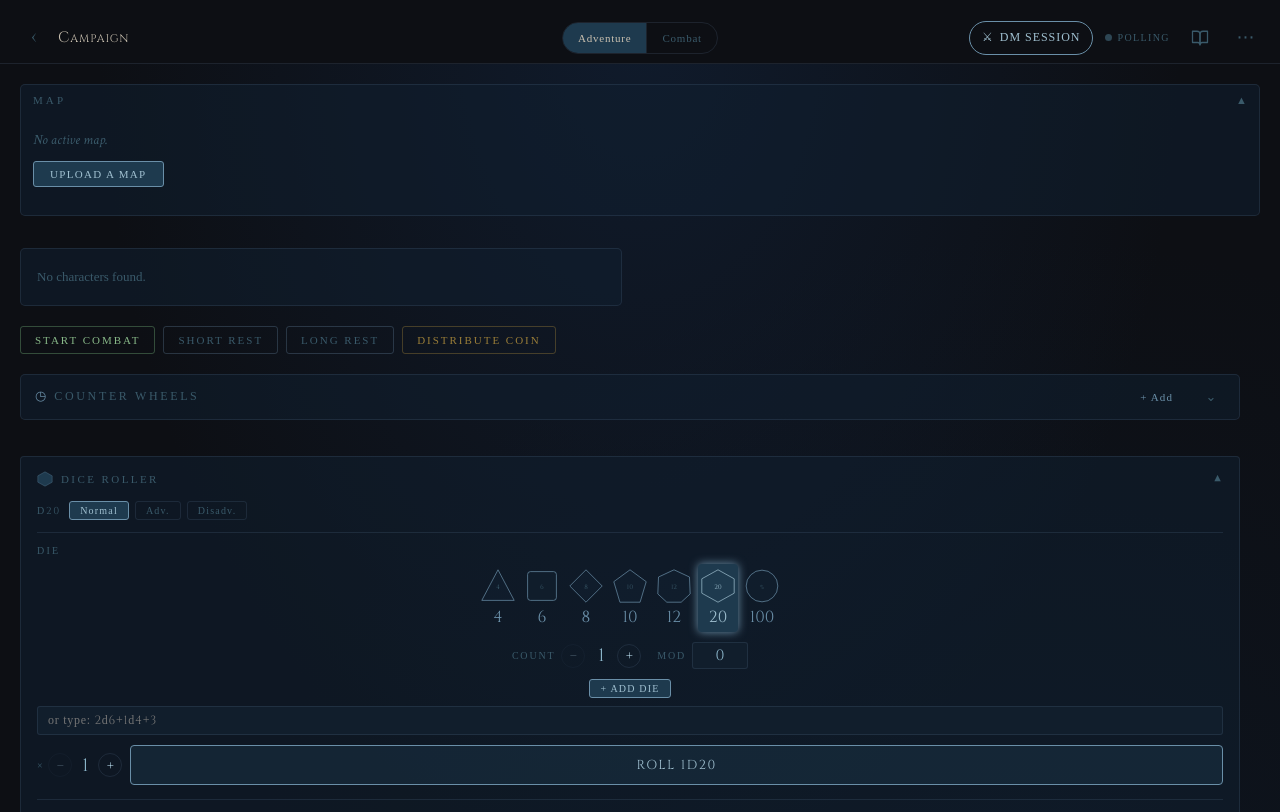
Test: DmDashboardPage text scaling › adjusts and persists dashboard text scale from the action menu
Click the button named "More actions" at [1246, 38], box 1224,16 -> 1268,60
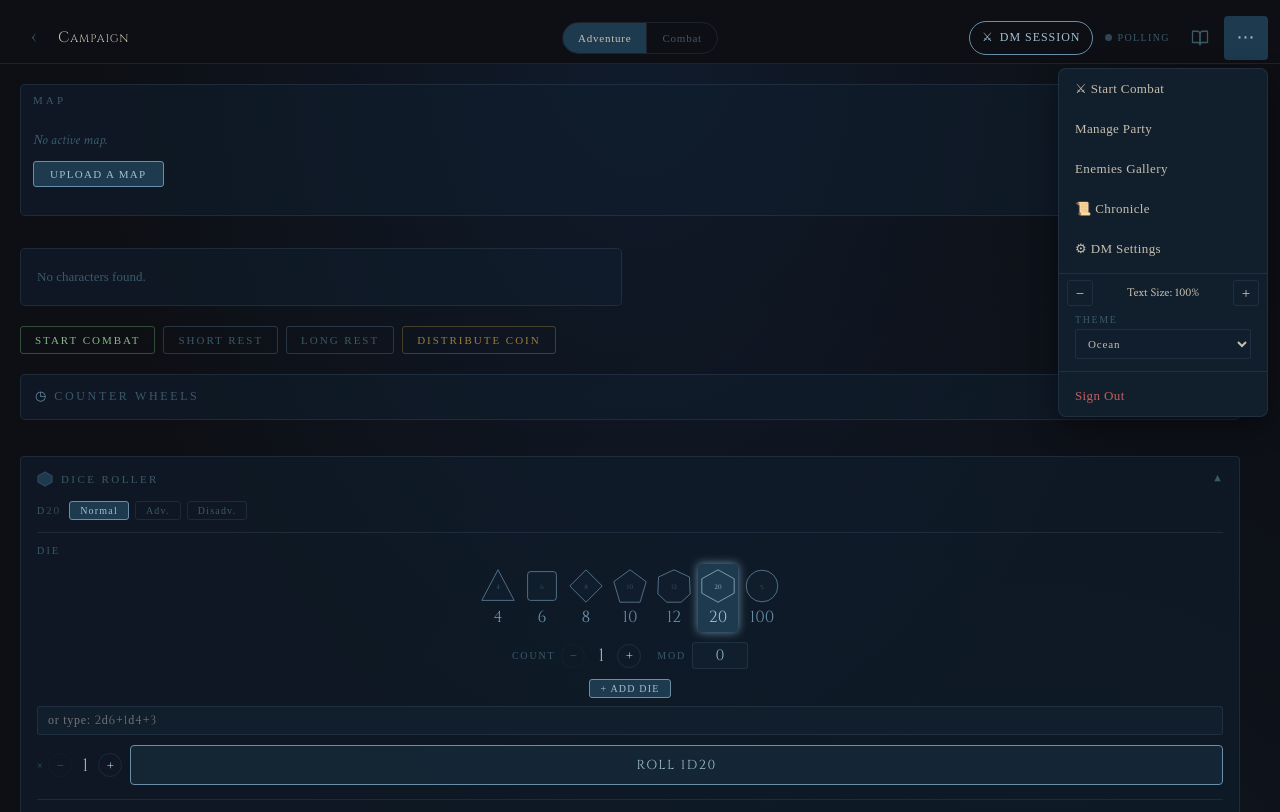
Expected: the text "Text Size: 100%" is shown, 1127,285 -> 1199,300
Click the button named "Increase Text Size" at [1246, 292], box 1233,280 -> 1259,306
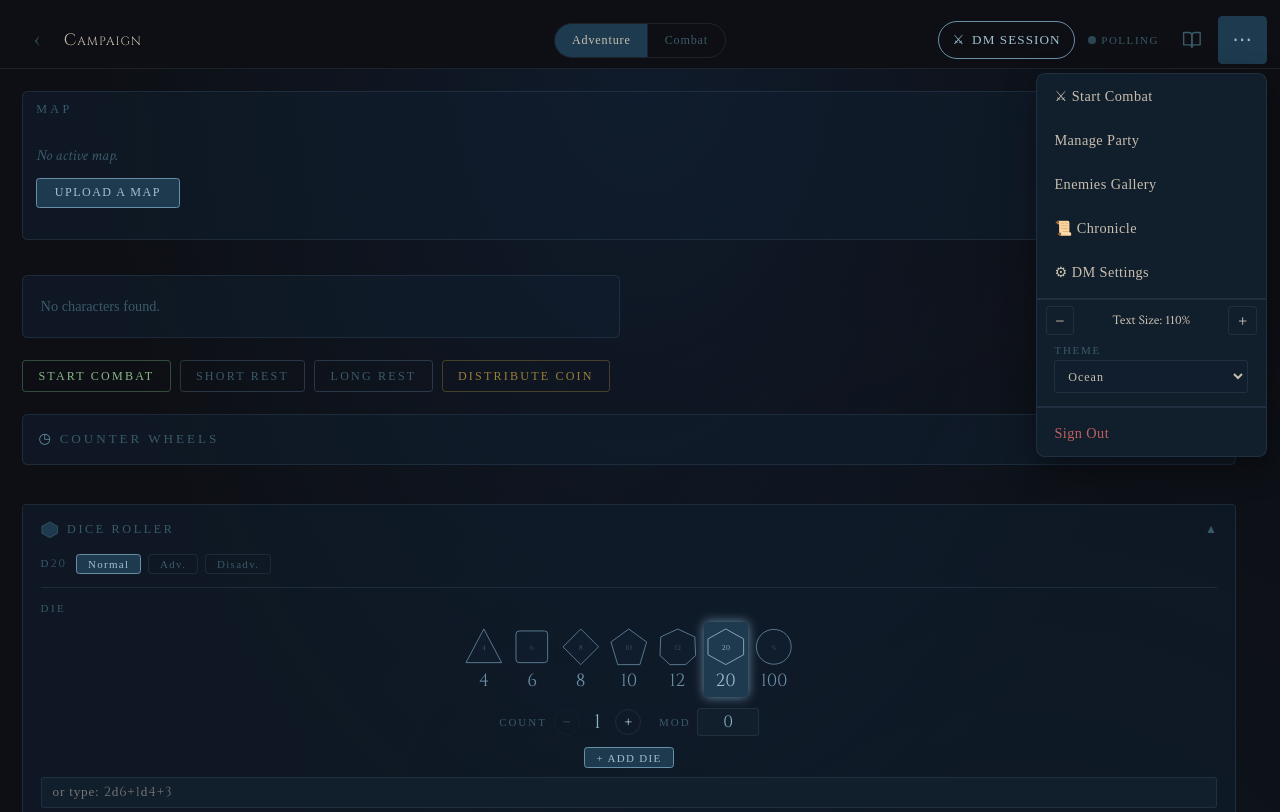
Expected: the text "Text Size: 110%" is shown, 1112,311 -> 1190,329
